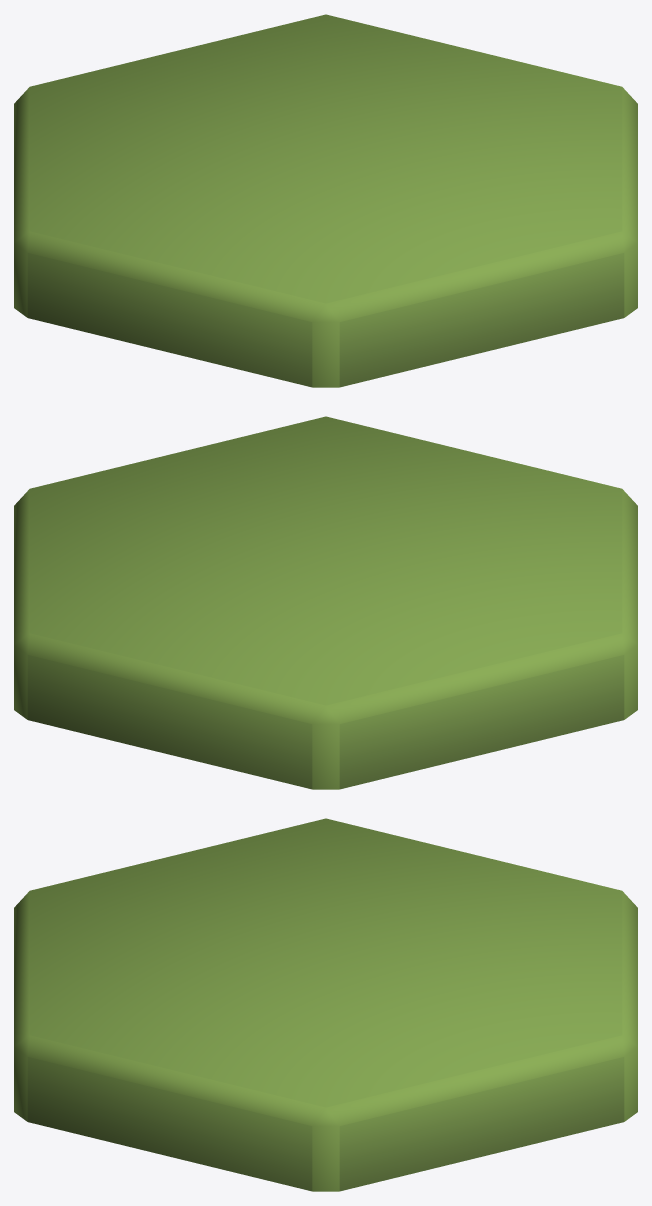
Rendered from bavel_spot_small_spot_green.fbx.
The picture shows the model from 3 angles, top to bottom: view 1: azimuth 30°, elevation 25°; view 2: azimuth 150°, elevation 25°; view 3: azimuth 270°, elevation 25°; orthographic projection.
Visible parts, largest first — view 1: bavel_spot_small_spot_green; view 2: bavel_spot_small_spot_green; view 3: bavel_spot_small_spot_green.
Part boxes in pixels (left/top/right/bottom): bavel_spot_small_spot_green: left=14, top=14, right=637, bottom=387; bavel_spot_small_spot_green: left=14, top=416, right=637, bottom=789; bavel_spot_small_spot_green: left=14, top=818, right=637, bottom=1191.
Size of the model in its own units: 161 by 20.07 by 143.
Materials: 1 (1 with a texture image).
